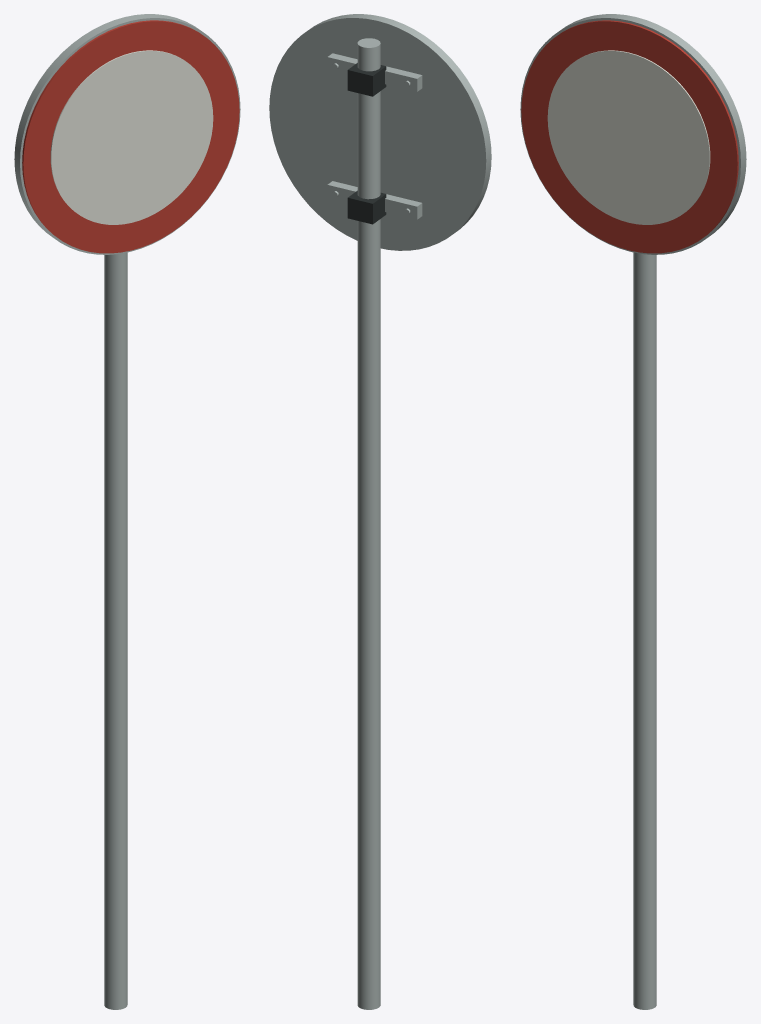
The model's file is speed-approved-v1.glb.
The picture shows the model from 3 angles, left to right: view 1: azimuth 30°, elevation 25°; view 2: azimuth 150°, elevation 25°; view 3: azimuth 330°, elevation 25°; orthographic projection.
Parts seen in each view (by area): view 1: 원형 제한속도 표지; view 2: 원형 제한속도 표지; view 3: 원형 제한속도 표지.
Boxes of the visible parts, x1,y1,x2,y2 form: 원형 제한속도 표지: (14,14,240,1009); 원형 제한속도 표지: (269,14,491,1009); 원형 제한속도 표지: (520,14,746,1009).
Size of the model in its own units: 0.604 by 2.6 by 0.12.
